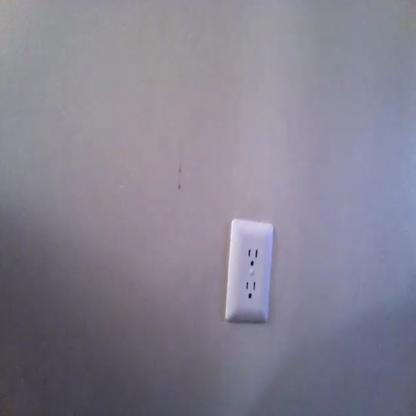OUTLET: (227, 220, 271, 320)
